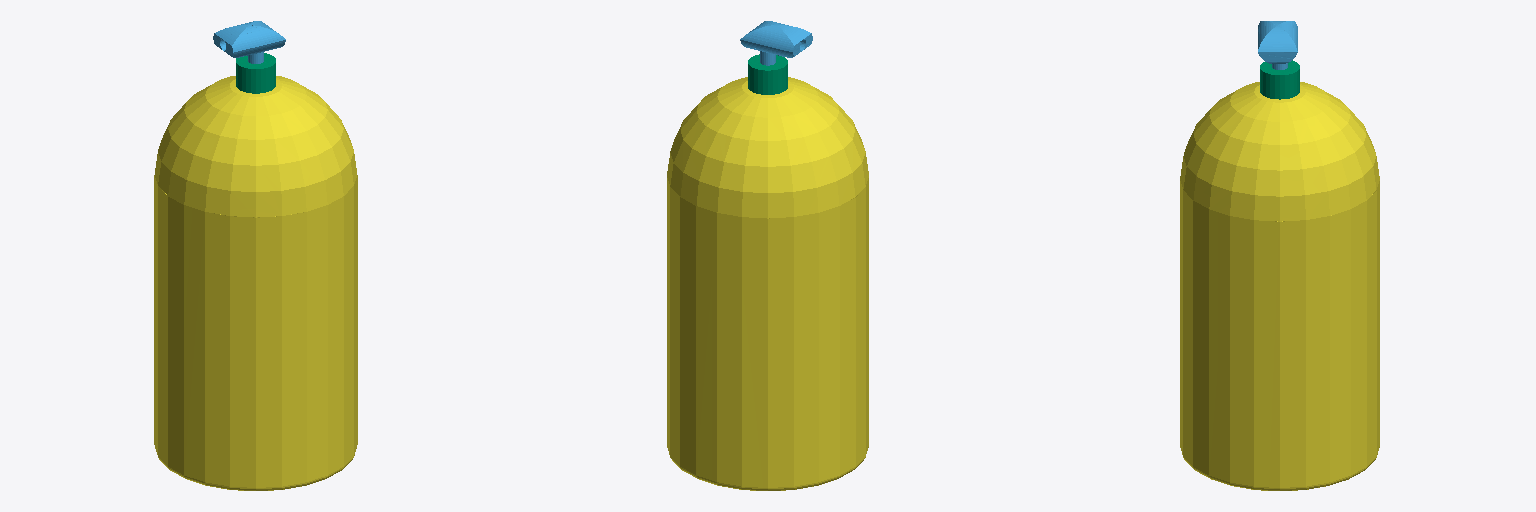
The robot description file, URDF, robot "partnet_ubd3b13b1-40b1-482c-86bb-5a92603291a2":
<?xml version="1.0" ?>
<robot name="partnet_ubd3b13b1-40b1-482c-86bb-5a92603291a2">
	<link name="base"/>
	<link name="link_0">
		<visual name="pressing_lid-1">
			<origin xyz="0.0015635000000000024 0 0.01272587797567036"/>
			<geometry>
				<mesh filename="textured_objs/original_7.obj"/>
			</geometry>
		</visual>
		<visual name="pressing_lid-1">
			<origin xyz="0.0015635000000000024 0 0.01272587797567036"/>
			<geometry>
				<mesh filename="textured_objs/original_8.obj"/>
			</geometry>
		</visual>
		<collision>
			<origin xyz="0.0015635000000000024 0 0.01272587797567036"/>
			<geometry>
				<mesh filename="textured_objs/original_7.obj"/>
			</geometry>
		</collision>
		<collision>
			<origin xyz="0.0015635000000000024 0 0.01272587797567036"/>
			<geometry>
				<mesh filename="textured_objs/original_8.obj"/>
			</geometry>
		</collision>
	</link>
	<joint name="joint_0" type="continuous">
		<origin xyz="0.0 0 0.0"/>
		<axis xyz="0 1 0"/>
		<child link="link_0"/>
		<parent link="link_0_helper"/>
	</joint>
	<link name="link_1">
		<visual name="head-3">
			<origin xyz="0.0015633352247389765 0 0.012725664775261034"/>
			<geometry>
				<mesh filename="textured_objs/original_6.obj"/>
			</geometry>
		</visual>
		<collision>
			<origin xyz="0.0015633352247389765 0 0.012725664775261034"/>
			<geometry>
				<mesh filename="textured_objs/original_6.obj"/>
			</geometry>
		</collision>
	</link>
	<joint name="joint_1" type="continuous">
		<origin xyz="0.0 0 0.0"/>
		<axis xyz="0 1 0"/>
		<child link="link_1"/>
		<parent link="link_1_helper"/>
	</joint>
	<link name="link_2">
		<visual name="base_body-4">
			<origin xyz="0 0 0"/>
			<geometry>
				<mesh filename="textured_objs/original_3.obj"/>
			</geometry>
		</visual>
		<visual name="base_body-4">
			<origin xyz="0 0 0"/>
			<geometry>
				<mesh filename="textured_objs/original_2.obj"/>
			</geometry>
		</visual>
		<collision>
			<origin xyz="0 0 0"/>
			<geometry>
				<mesh filename="textured_objs/original_3.obj"/>
			</geometry>
		</collision>
		<collision>
			<origin xyz="0 0 0"/>
			<geometry>
				<mesh filename="textured_objs/original_2.obj"/>
			</geometry>
		</collision>
	</link>
	<joint name="joint_2" type="fixed">
		<origin rpy="1.570796326794897 0 -1.570796326794897" xyz="0 0 0"/>
		<child link="link_2"/>
		<parent link="base"/>
	</joint>
	<link name="link_0_helper">
		<inertial>
			<origin xyz="0 0 0"/>
			<mass value="1e-6"/>
			<inertia ixx="1e-10" ixy="0" ixz="0" iyy="1e-10" iyz="0" izz="1e-10"/>
		</inertial>
	</link>
	<joint name="joint_3" type="prismatic">
		<origin xyz="-1.64775261025929e-07 0 -2.1320040932693018e-07"/>
		<axis xyz="0 -1 0"/>
		<child link="link_0_helper"/>
		<parent link="link_1"/>
		<limit lower="0" upper="0.04"/>
	</joint>
	<link name="link_1_helper">
		<inertial>
			<origin xyz="0 0 0"/>
			<mass value="1e-6"/>
			<inertia ixx="1e-10" ixy="0" ixz="0" iyy="1e-10" iyz="0" izz="1e-10"/>
		</inertial>
	</link>
	<joint name="joint_4" type="prismatic">
		<origin xyz="-0.0015633352247389765 0 -0.012725664775261034"/>
		<axis xyz="0 1 0"/>
		<child link="link_1_helper"/>
		<parent link="link_2"/>
		<limit lower="0" upper="0.02"/>
	</joint>
</robot>

--- What the picture shows (computed from the rendered views, not written in the file) ---
3 views of the same robot in one strip: view 1: azimuth 30°, elevation 25°; view 2: azimuth 150°, elevation 25°; view 3: azimuth 270°, elevation 25° (orthographic).
Robot: partnet_ubd3b13b1-40b1-482c-86bb-5a92603291a2 — 6 links, 5 joints (2 continuous, 2 prismatic, 1 fixed); root link base; default pose: every joint at zero.
Visible links, largest first — view 1: link_2, link_0, link_1; view 2: link_2, link_0, link_1; view 3: link_2, link_0, link_1.
Link boxes in pixels (x1,y1,x2,y2): link_2: (154,76,357,490); link_0: (213,21,285,63); link_1: (236,53,275,93); link_2: (667,77,868,490); link_0: (740,21,812,65); link_1: (748,54,787,94); link_2: (1180,82,1379,490); link_0: (1258,21,1297,69); link_1: (1260,60,1299,99).
Bounding box of the posed robot: 0.7713 × 0.7712 × 1.8 m (x, y, z).
Meshes: 5 distinct files referenced, 5 mesh visuals loaded (5 OBJ).
